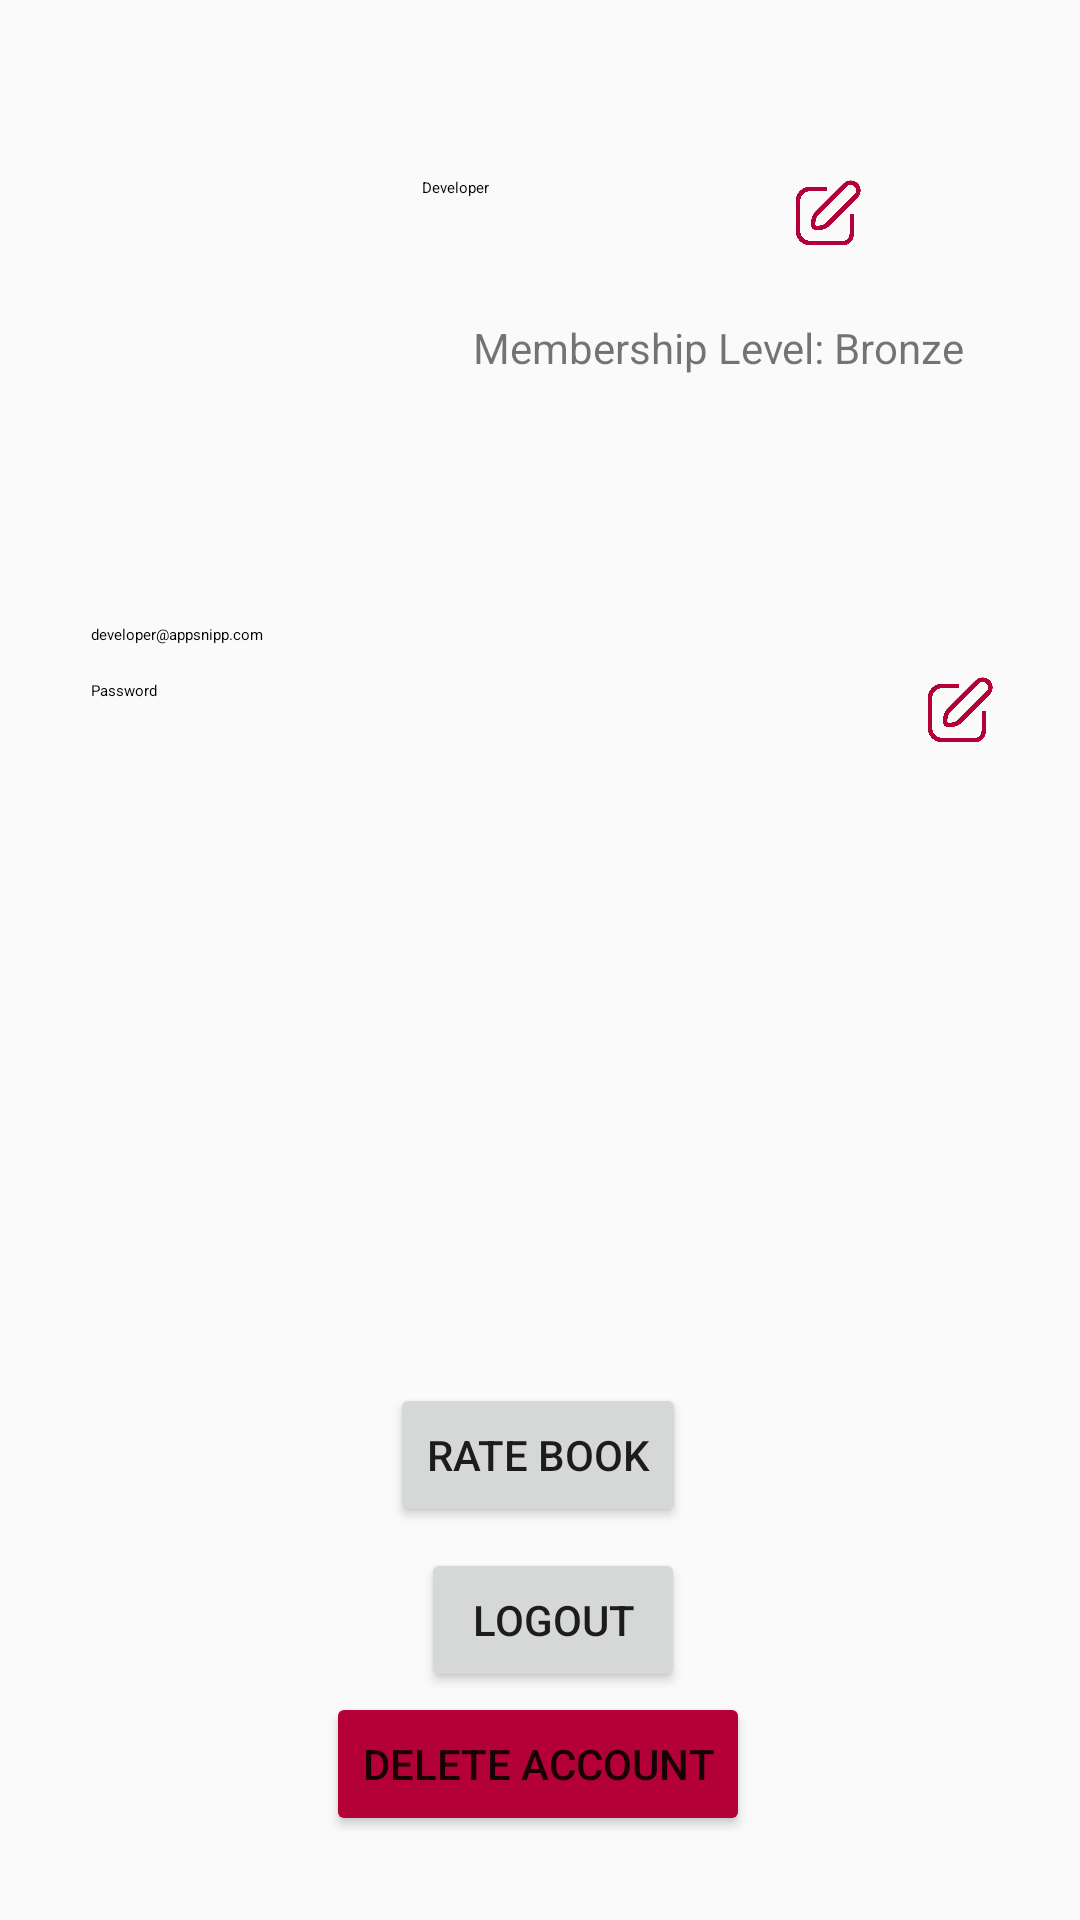

Point at icon controls on the screen. Image size 1080×1920, points as [x,y].
edit username: [828,212]
